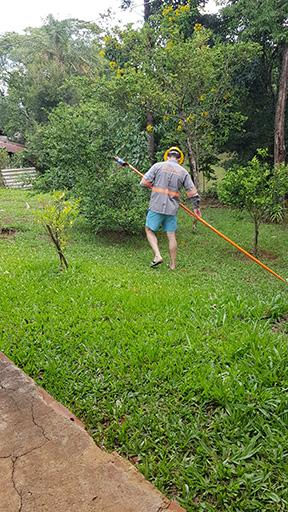Detector_Tensao_Contato: (110, 153, 130, 167)
Vara_Manobra: (128, 164, 286, 282)
